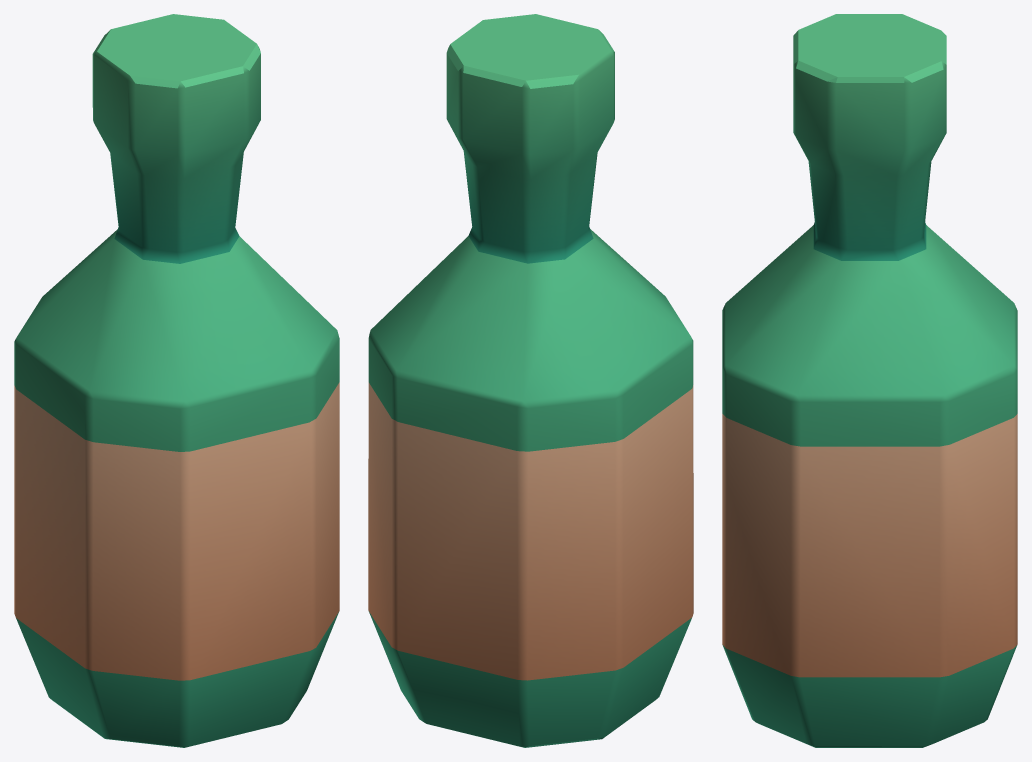
File: kenney-pirate__bottle.glb
3 views of the same model, side by side, from view 1: azimuth 30°, elevation 25°; view 2: azimuth 150°, elevation 25°; view 3: azimuth 270°, elevation 25° (orthographic).
Parts seen in each view (by area): view 1: bottle; view 2: bottle; view 3: bottle.
Boxes of the visible parts, left/top/right/bottom form: bottle: left=14, top=14, right=339, bottom=747; bottle: left=368, top=14, right=693, bottom=747; bottle: left=722, top=14, right=1017, bottom=747.
Bounding box in the file's own units: 0.3643 × 0.8905 × 0.3643.
1 material, 1 textured.
